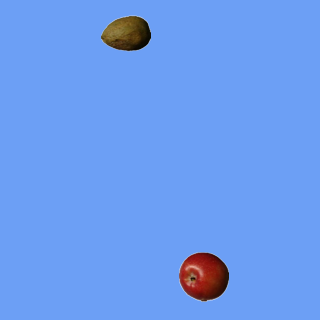Apple Braeburn: (178, 251, 228, 301)
Papaya: (100, 8, 150, 58)
